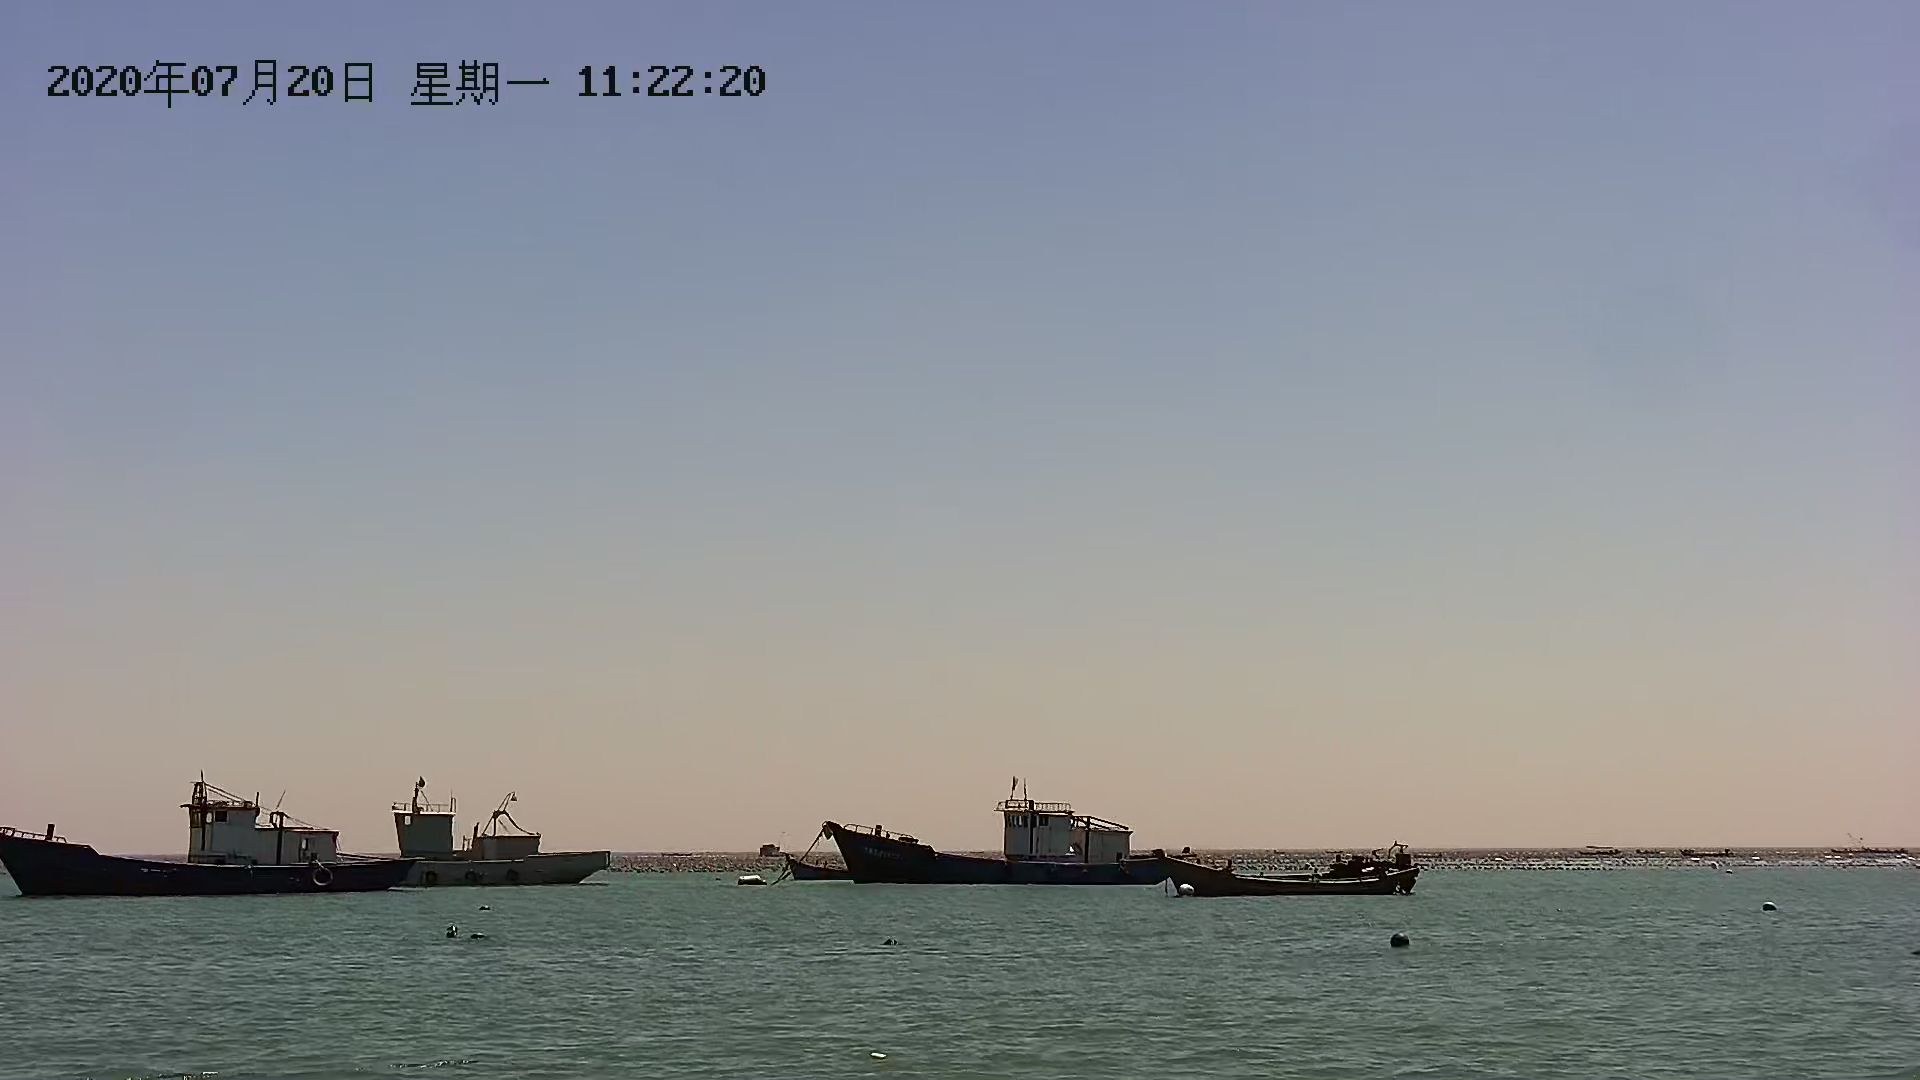ball: (1386, 931, 1412, 945)
boat: (4, 778, 409, 907), (807, 800, 1193, 895), (334, 808, 634, 891), (1153, 841, 1428, 905), (760, 860, 858, 882)
